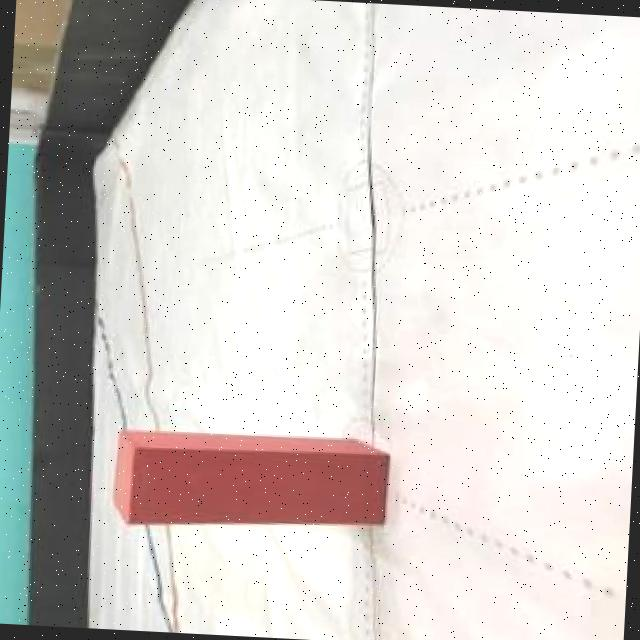redbox: (111, 424, 392, 538)
